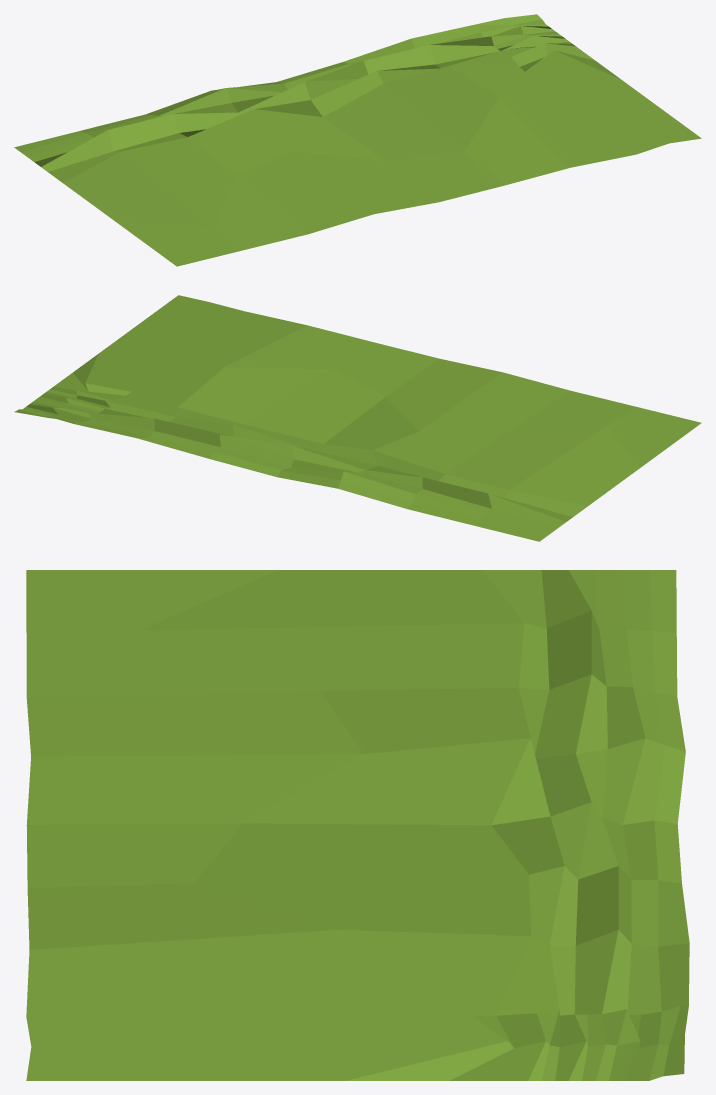
The model's file is long_road_terrain.fbx.
3 views of the same model, one above another, from view 1: azimuth 30°, elevation 25°; view 2: azimuth 150°, elevation 25°; view 3: azimuth 270°, elevation 25° (orthographic). The views are drawn at different scales.
Parts seen in each view (by area): view 1: Plane; view 2: Plane; view 3: Plane.
Boxes of the visible parts, box(x1,y1,x2,y2) form: Plane: box(14, 14, 701, 266); Plane: box(14, 295, 701, 541); Plane: box(26, 570, 689, 1080).
Bounding box in the file's own units: 2414 × 66.83 × 1325.
